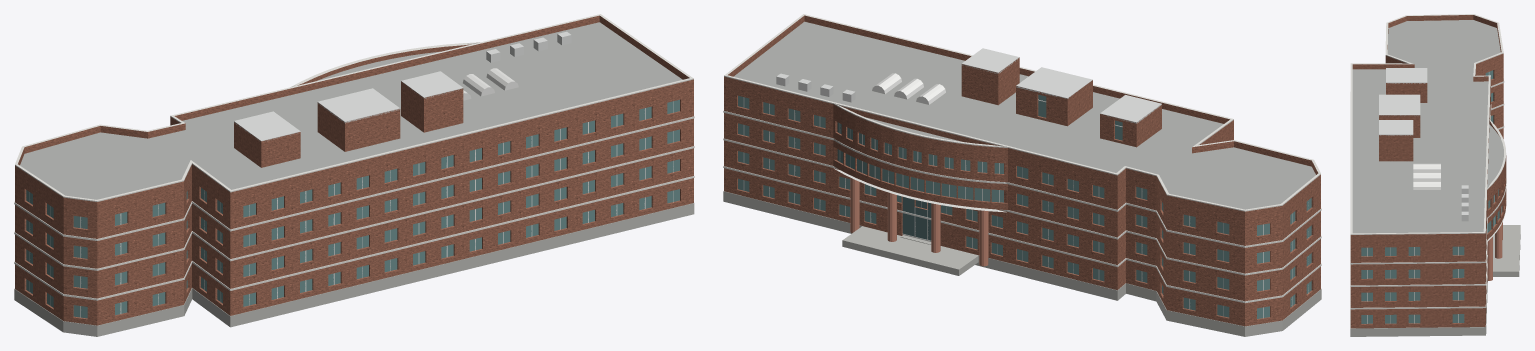
The picture shows the model from 3 angles, left to right: view 1: azimuth 30°, elevation 25°; view 2: azimuth 150°, elevation 25°; view 3: azimuth 270°, elevation 25°; orthographic projection. The views are drawn at different scales.
Visible parts, largest first — view 1: S1 red brick, S1 grey roof, S1 green grey glass, S1 white stone string courses, S1 granite base, S1 rooftop condensers, S1 white window frames, S1 white arched skylights; view 2: S1 red brick, S1 grey roof, S1 green grey glass, S1 granite base, S1 white stone string courses, S1 rooftop condensers, S1 round brick columns pole, S1 white window frames, S1 dark glass entrance, S1 white arched skylights, S1 white projection soffit; view 3: S1 grey roof, S1 red brick, S1 white stone string courses, S1 granite base, S1 rooftop condensers, S1 green grey glass, S1 white arched skylights, S1 round brick columns pole, S1 white window frames.
Part boxes in pixels (x1,y1,x2,y2): S1 red brick: [15, 15, 693, 325]; S1 grey roof: [20, 22, 682, 199]; S1 green grey glass: [26, 99, 679, 318]; S1 white stone string courses: [14, 14, 694, 300]; S1 granite base: [14, 203, 694, 336]; S1 rooftop condensers: [234, 31, 571, 141]; S1 white window frames: [29, 101, 673, 317]; S1 white arched skylights: [463, 68, 518, 100]; S1 red brick: [724, 15, 1320, 326]; S1 grey roof: [733, 21, 1315, 209]; S1 green grey glass: [738, 94, 1311, 318]; S1 granite base: [723, 191, 1321, 336]; S1 white stone string courses: [723, 14, 1321, 303]; S1 rooftop condensers: [776, 48, 1161, 123]; S1 round brick columns pole: [850, 177, 988, 266]; S1 white window frames: [743, 97, 1308, 318]; S1 dark glass entrance: [902, 197, 931, 240]; S1 white arched skylights: [872, 73, 945, 104]; S1 white projection soffit: [834, 168, 1006, 212]; S1 grey roof: [1352, 20, 1503, 233]; S1 red brick: [1350, 15, 1506, 328]; S1 white stone string courses: [1350, 14, 1506, 309]; S1 granite base: [1350, 225, 1520, 336]; S1 rooftop condensers: [1379, 68, 1468, 221]; S1 green grey glass: [1361, 70, 1502, 323]; S1 white arched skylights: [1413, 163, 1440, 189]; S1 round brick columns pole: [1487, 222, 1502, 280]; S1 white window frames: [1367, 72, 1501, 323].
Bounding box in the file's own units: 75.71 × 19.85 × 24.73.
11 materials, 1 textured.
